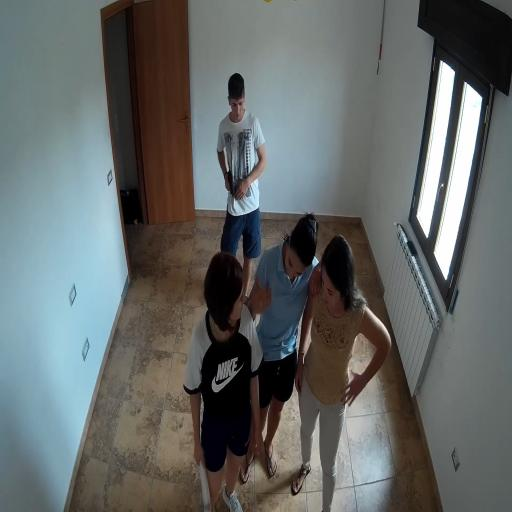nao-violencia: (175, 203, 394, 512)
violencia: (197, 64, 276, 278)
